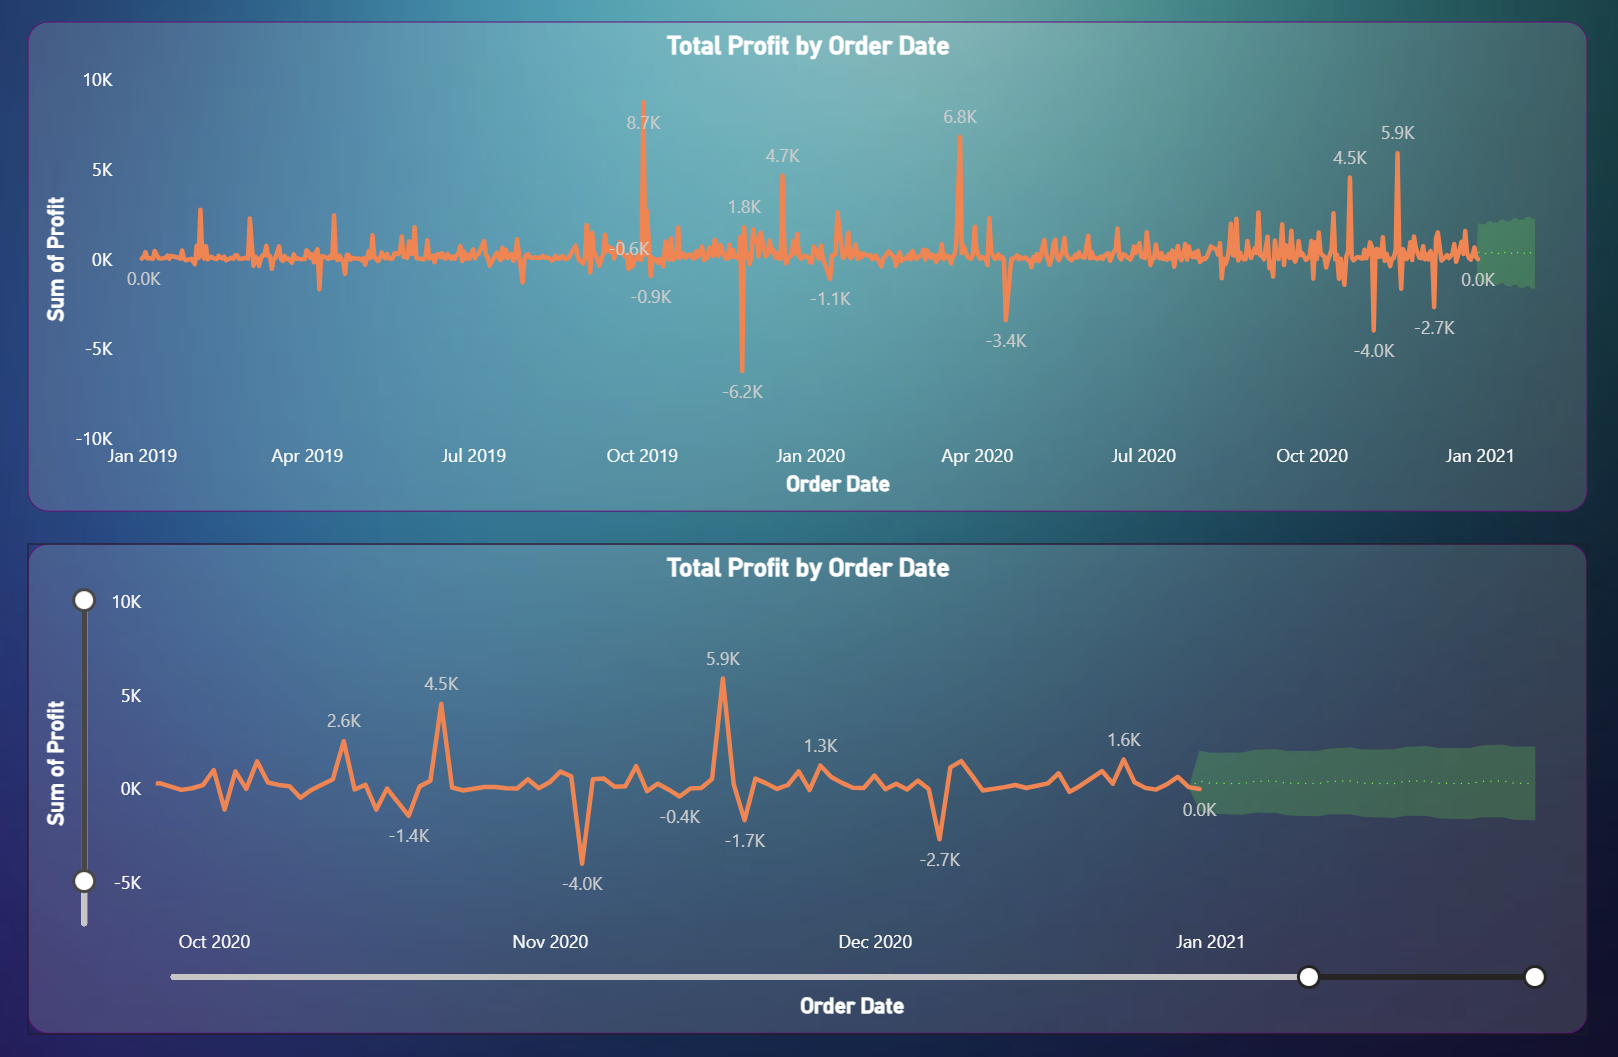

What the dashboard file says about the page in this screenshot:
{"tool":"powerbi","page":{"name":"Profit_Forecasting","canvas":[1280,720],"ordinal":2},"visuals":[{"type":"lineChart","title":"Total Profit by Order Date","fields":{"Category":["SuperStore_Sales_Dataset.Order Date"],"Y":["Sum(SuperStore_Sales_Dataset.Profit)"]},"box":[107.6,19.1,1046,328.9],"z":0},{"type":"lineChart","title":"Total Profit by Order Date","fields":{"Category":["SuperStore_Sales_Dataset.Order Date"],"Y":["Sum(SuperStore_Sales_Dataset.Profit)"]},"box":[107.6,369.1,1046,328.9],"z":1000}]}

Visuals, with their boxes on the page's 1280x720 design canvas (x1, y1, x2, y2). These are canvas units, not pixel positions in the 1618x1057 screenshot, which may show the page scaled, cropped or inside an application window:
"Total Profit by Order Date" lineChart: left=108, top=19, right=1154, bottom=348
"Total Profit by Order Date" lineChart: left=108, top=369, right=1154, bottom=698
